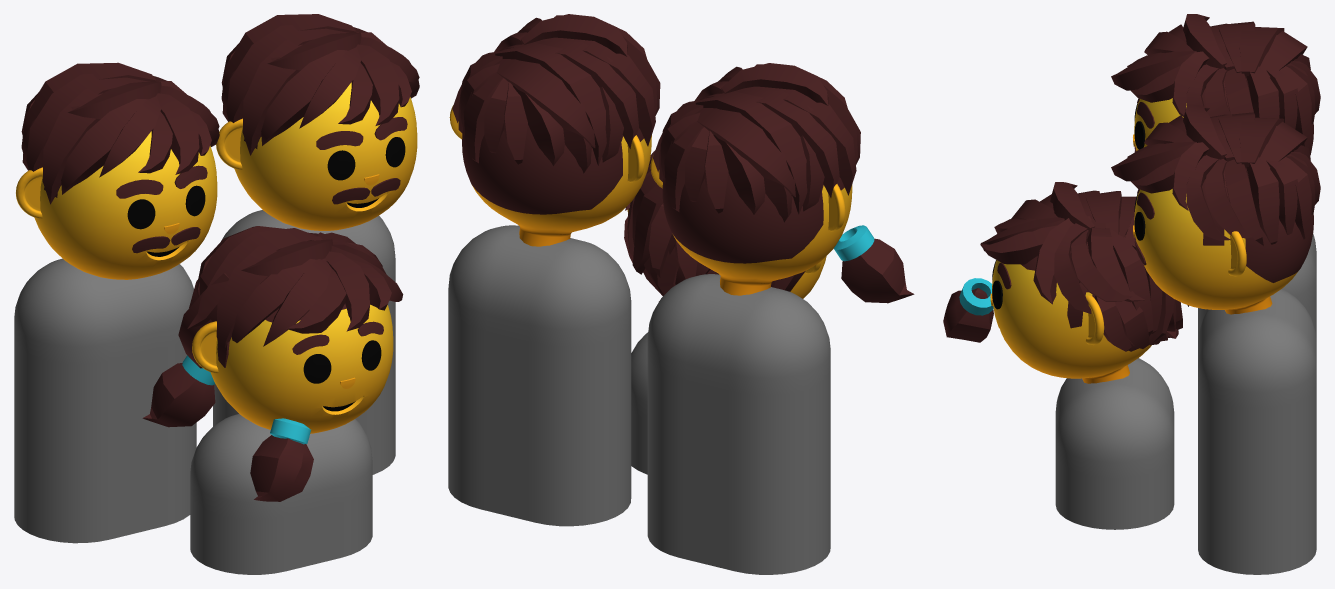
File: family_man_man_girl.gltf
The picture shows the model from 3 angles, left to right: view 1: azimuth 30°, elevation 25°; view 2: azimuth 150°, elevation 25°; view 3: azimuth 270°, elevation 25°; orthographic projection. The views are drawn at different scales.
Parts seen in each view (by area): view 1: Sphere.295, Sphere.294, Cube.4636, Cube.4615, Cube.4593, Roundcube.356, Roundcube.355, Roundcube.354, Cube.4656, Sphere.296, Cube.4657, Circle.1526 (+10 smaller); view 2: Sphere.296, Sphere.295, Cube.4615, Cube.4593, Roundcube.356, Roundcube.355, Cube.4636, Cube.4656, Sphere.294, Cube.4657, Cylinder.063, Cylinder.064; view 3: Sphere.296, Cube.4615, Cube.4636, Sphere.294, Cube.4593, Roundcube.356, Roundcube.354, Cube.4656, Sphere.295, Roundcube.355, Cube.4657, Cylinder.062 (+1 smaller).
Part boxes in pixels (x1,y1,x2,y2): Sphere.295: [14, 258, 196, 543]; Sphere.294: [190, 414, 372, 574]; Cube.4636: [178, 226, 403, 368]; Cube.4615: [221, 14, 419, 155]; Cube.4593: [21, 62, 219, 204]; Roundcube.356: [234, 82, 417, 230]; Roundcube.355: [34, 131, 217, 279]; Roundcube.354: [210, 303, 393, 433]; Cube.4656: [142, 363, 313, 501]; Sphere.296: [213, 210, 395, 474]; Cube.4657: [182, 355, 310, 444]; Circle.1526: [127, 185, 205, 229]; Sphere.296: [448, 225, 631, 526]; Sphere.295: [647, 274, 830, 574]; Cube.4615: [452, 14, 660, 173]; Cube.4593: [653, 63, 860, 222]; Roundcube.356: [462, 125, 651, 246]; Roundcube.355: [662, 173, 852, 295]; Cube.4636: [624, 150, 805, 301]; Cube.4656: [841, 238, 914, 303]; Sphere.294: [631, 332, 648, 474]; Cube.4657: [833, 225, 874, 261]; Cylinder.063: [650, 155, 845, 231]; Cylinder.064: [449, 105, 644, 182]; Sphere.296: [1198, 289, 1316, 574]; Cube.4615: [1111, 104, 1320, 245]; Cube.4636: [980, 182, 1188, 351]; Sphere.294: [1055, 358, 1174, 529]; Cube.4593: [1111, 14, 1320, 146]; Roundcube.356: [1134, 155, 1313, 314]; Roundcube.354: [992, 242, 1151, 383]; Cube.4656: [943, 288, 1169, 342]; Sphere.295: [1198, 233, 1316, 340]; Roundcube.355: [1134, 65, 1313, 155]; Cube.4657: [959, 278, 993, 315]; Cylinder.062: [1085, 295, 1104, 344].
Size of the model in its own units: 2.35 by 2.58 by 2.11.
1 material, 1 textured.
